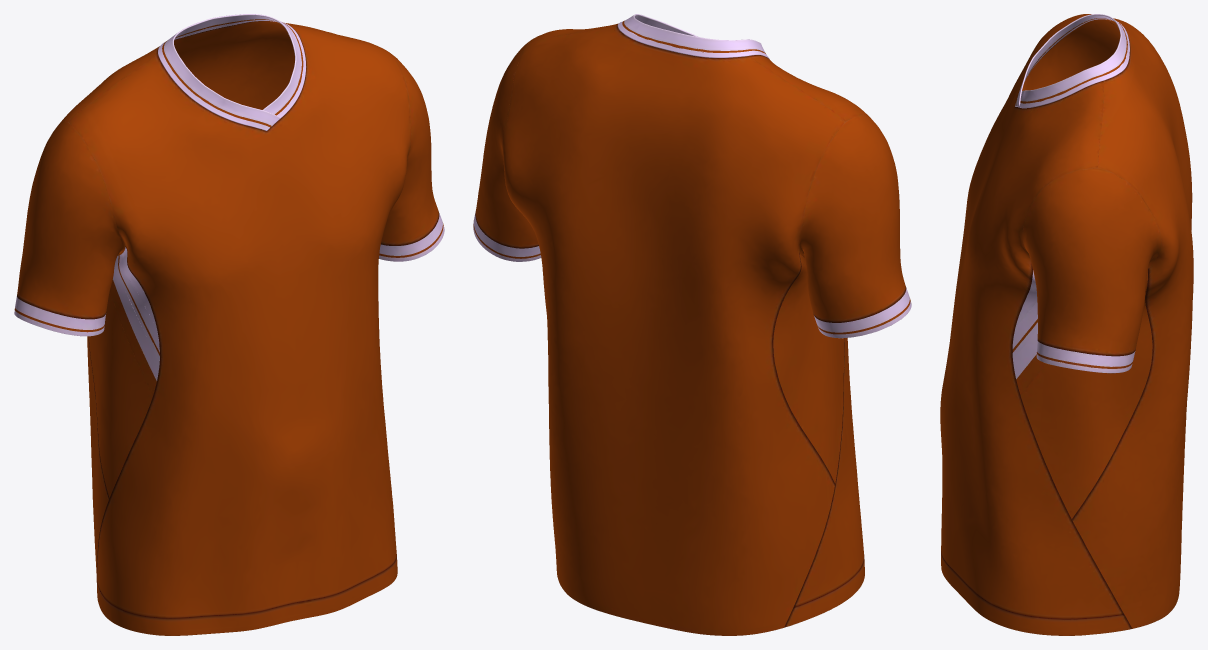
Rendered from camiseta-futbol-naranja.glb.
The picture shows the model from 3 angles, left to right: view 1: azimuth 30°, elevation 25°; view 2: azimuth 150°, elevation 25°; view 3: azimuth 270°, elevation 25°; orthographic projection. The views are drawn at different scales.
Parts seen in each view (by area): view 1: Object_2, Object_5; view 2: Object_2, Object_5; view 3: Object_2, Object_5.
Boxes of the visible parts, x1,y1,x2,y2 form: Object_2: [14, 19, 443, 635]; Object_5: [14, 14, 444, 380]; Object_2: [473, 20, 910, 635]; Object_5: [473, 14, 911, 338]; Object_2: [940, 14, 1193, 635]; Object_5: [1012, 14, 1135, 378].
Size of the model in its own units: 0.5507 by 0.7 by 0.2952.
2 materials, 2 textured.
